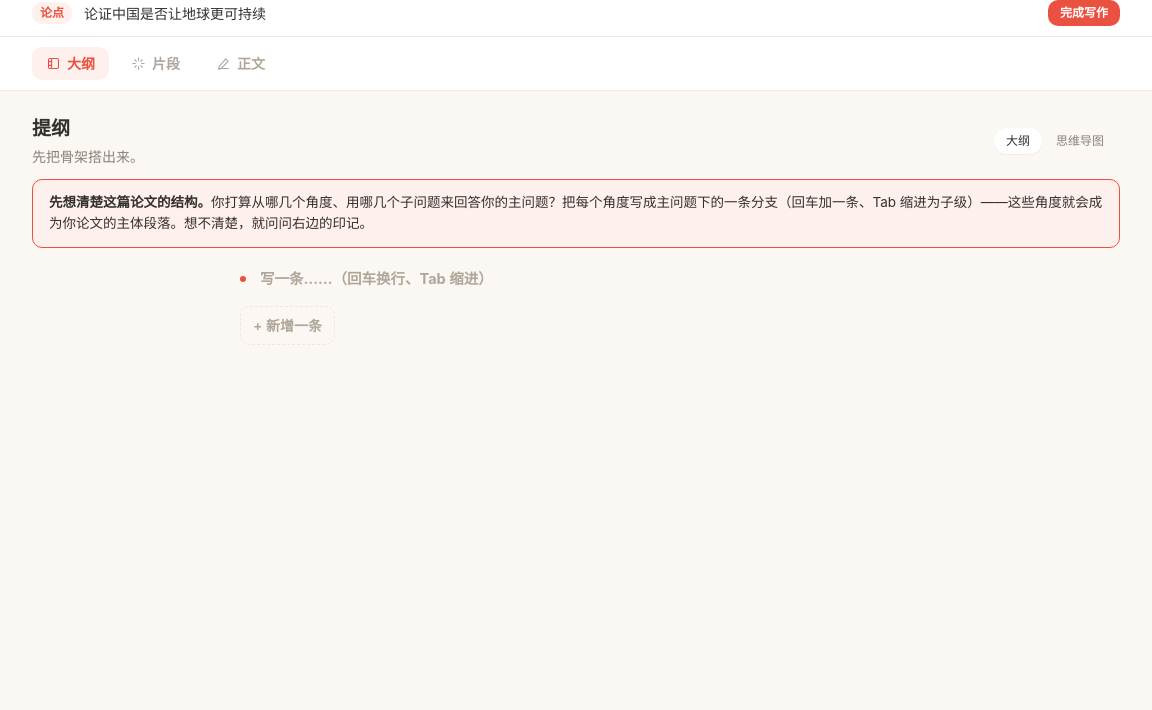
Scenario: WritingBlock · 整稿体检 (WA) › summons a writing card from the deck into a modal (WC · card-hang, #3)
Click the button "片段" at coordinates (156, 64), box [117,47,194,80]
(page scrolled)
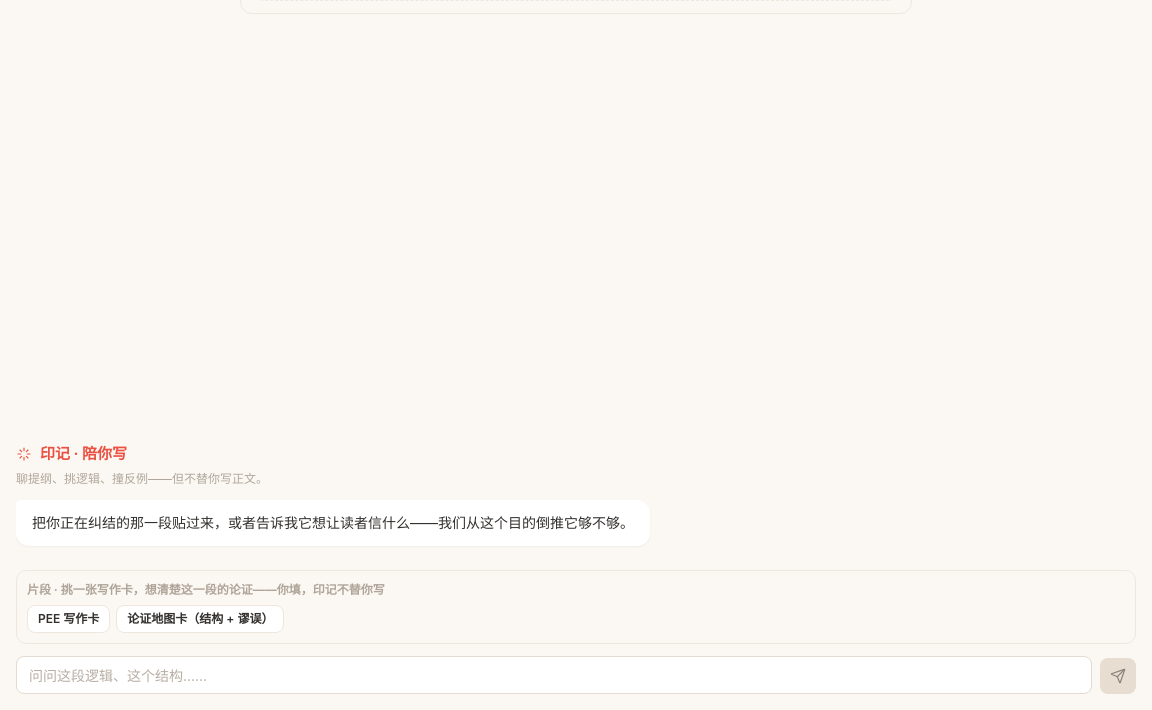
Click the button "论证地图卡（结构 + 谬误）" at coordinates (200, 619), box [116,605,284,633]
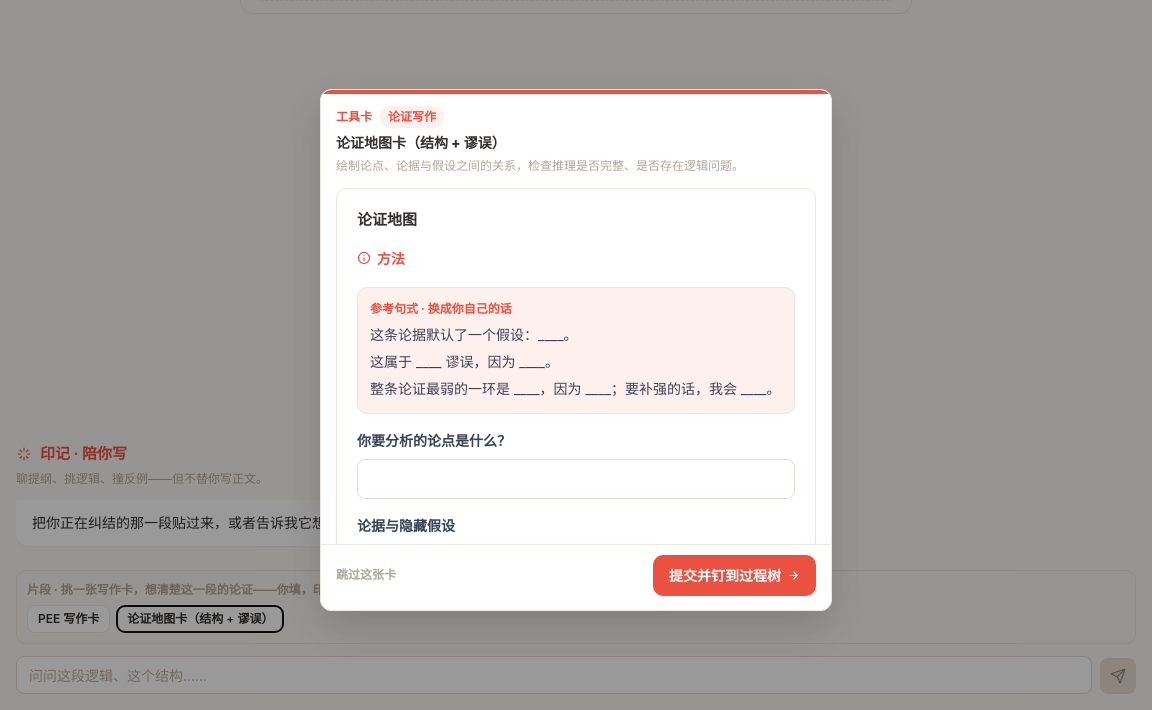
Expected: the text "工具卡" is shown, [336,108,372,126]
